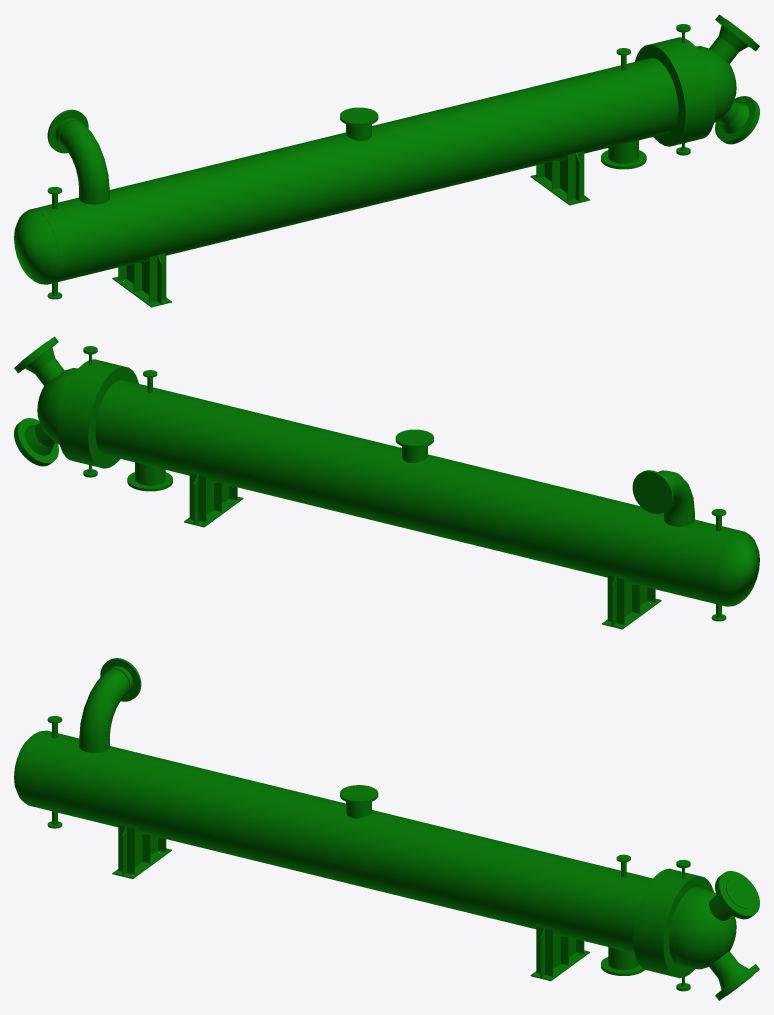
File: Image-1710907553353-2281220914592_27-HA50.fbx
3 renders of one model, top to bottom at view 1: azimuth 30°, elevation 25°; view 2: azimuth 150°, elevation 25°; view 3: azimuth 330°, elevation 25°, orthographic.
Visible parts, largest first — view 1: CYLINDER 5 of SUBEQUIPMENT /27-HA50/SUBE1, CYLINDER 3 of SUBEQUIPMENT /27-HA50/SUBE1, CYLINDER 4 of SUBEQUIPMENT /27-HA50/SUBE1, CYLINDER 1 of SUBEQUIPMENT /27-HA50/SUBE1, CYLINDER 6 of SUBEQUIPMENT /27-HA50/SUBE1, DISH 1 of SUBEQUIPMENT /27-HA50/SUBE1, CTORUS 1 of SUBEQUIPMENT /27-HA50/SUBE2, CYLINDER 10 of SUBEQUIPMENT /27-HA50/SUBE1, /27-HA50/T2, CYLINDER 9 of SUBEQUIPMENT /27-HA50/SUBE1, DISH 2 of SUBEQUIPMENT /27-HA50/SUBE1, /27-HA50/T1 (+9 smaller); view 2: CYLINDER 5 of SUBEQUIPMENT /27-HA50/SUBE1, CYLINDER 3 of SUBEQUIPMENT /27-HA50/SUBE1, CYLINDER 4 of SUBEQUIPMENT /27-HA50/SUBE1, CYLINDER 1 of SUBEQUIPMENT /27-HA50/SUBE1, CYLINDER 6 of SUBEQUIPMENT /27-HA50/SUBE1, DISH 1 of SUBEQUIPMENT /27-HA50/SUBE1, CYLINDER 10 of SUBEQUIPMENT /27-HA50/SUBE1, /27-HA50/T2, /27-HA50/S2, CYLINDER 9 of SUBEQUIPMENT /27-HA50/SUBE1, DISH 2 of SUBEQUIPMENT /27-HA50/SUBE1, /27-HA50/T1 (+9 smaller); view 3: CYLINDER 3 of SUBEQUIPMENT /27-HA50/SUBE1, CYLINDER 5 of SUBEQUIPMENT /27-HA50/SUBE1, CYLINDER 4 of SUBEQUIPMENT /27-HA50/SUBE1, CYLINDER 1 of SUBEQUIPMENT /27-HA50/SUBE1, CYLINDER 6 of SUBEQUIPMENT /27-HA50/SUBE1, DISH 2 of SUBEQUIPMENT /27-HA50/SUBE1, CYLINDER 9 of SUBEQUIPMENT /27-HA50/SUBE1, CTORUS 1 of SUBEQUIPMENT /27-HA50/SUBE2, /27-HA50/T1, /27-HA50/T2, CYLINDER 10 of SUBEQUIPMENT /27-HA50/SUBE1, CYLINDER 8 of SUBEQUIPMENT /27-HA50/SUBE1 (+8 smaller).
Boxes of the visible parts, x1,y1,x2,y2 form: CYLINDER 5 of SUBEQUIPMENT /27-HA50/SUBE1: (415,77,598,190); CYLINDER 3 of SUBEQUIPMENT /27-HA50/SUBE1: (116,150,298,263); CYLINDER 4 of SUBEQUIPMENT /27-HA50/SUBE1: (273,115,441,225); CYLINDER 1 of SUBEQUIPMENT /27-HA50/SUBE1: (35,188,142,282); CYLINDER 6 of SUBEQUIPMENT /27-HA50/SUBE1: (572,59,670,152); DISH 1 of SUBEQUIPMENT /27-HA50/SUBE1: (14,209,58,284); CTORUS 1 of SUBEQUIPMENT /27-HA50/SUBE2: (59,120,109,196); CYLINDER 10 of SUBEQUIPMENT /27-HA50/SUBE1: (635,42,694,146); /27-HA50/T2: (715,96,759,144); CYLINDER 9 of SUBEQUIPMENT /27-HA50/SUBE1: (667,37,715,140); DISH 2 of SUBEQUIPMENT /27-HA50/SUBE1: (695,46,736,122); /27-HA50/T1: (709,14,759,63); CYLINDER 5 of SUBEQUIPMENT /27-HA50/SUBE1: (175,399,358,512); CYLINDER 3 of SUBEQUIPMENT /27-HA50/SUBE1: (475,472,650,585); CYLINDER 4 of SUBEQUIPMENT /27-HA50/SUBE1: (332,437,500,547); CYLINDER 1 of SUBEQUIPMENT /27-HA50/SUBE1: (631,512,738,604); CYLINDER 6 of SUBEQUIPMENT /27-HA50/SUBE1: (103,381,201,474); DISH 1 of SUBEQUIPMENT /27-HA50/SUBE1: (715,531,759,606); CYLINDER 10 of SUBEQUIPMENT /27-HA50/SUBE1: (79,364,138,468); /27-HA50/T2: (14,418,58,466); /27-HA50/S2: (632,470,673,513); CYLINDER 9 of SUBEQUIPMENT /27-HA50/SUBE1: (58,359,106,462); DISH 2 of SUBEQUIPMENT /27-HA50/SUBE1: (37,368,78,444); /27-HA50/T1: (14,336,64,385); CYLINDER 3 of SUBEQUIPMENT /27-HA50/SUBE1: (104,751,286,863); CYLINDER 5 of SUBEQUIPMENT /27-HA50/SUBE1: (403,824,585,936); CYLINDER 4 of SUBEQUIPMENT /27-HA50/SUBE1: (260,789,428,898); CYLINDER 1 of SUBEQUIPMENT /27-HA50/SUBE1: (23,731,129,825); CYLINDER 6 of SUBEQUIPMENT /27-HA50/SUBE1: (559,862,652,953); DISH 2 of SUBEQUIPMENT /27-HA50/SUBE1: (675,888,736,969); CYLINDER 9 of SUBEQUIPMENT /27-HA50/SUBE1: (651,873,713,978); CTORUS 1 of SUBEQUIPMENT /27-HA50/SUBE2: (79,669,129,744); /27-HA50/T1: (709,871,759,920); /27-HA50/T2: (709,951,759,1000); CYLINDER 10 of SUBEQUIPMENT /27-HA50/SUBE1: (633,868,678,971); CYLINDER 8 of SUBEQUIPMENT /27-HA50/SUBE1: (642,871,686,973).
Bounding box in the file's own units: 8.9 × 1.12 × 2.
